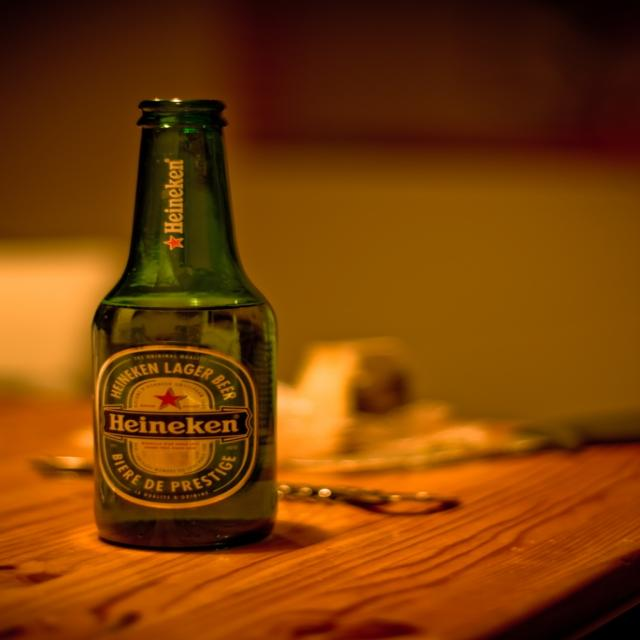heineken: (94, 347, 256, 510)
